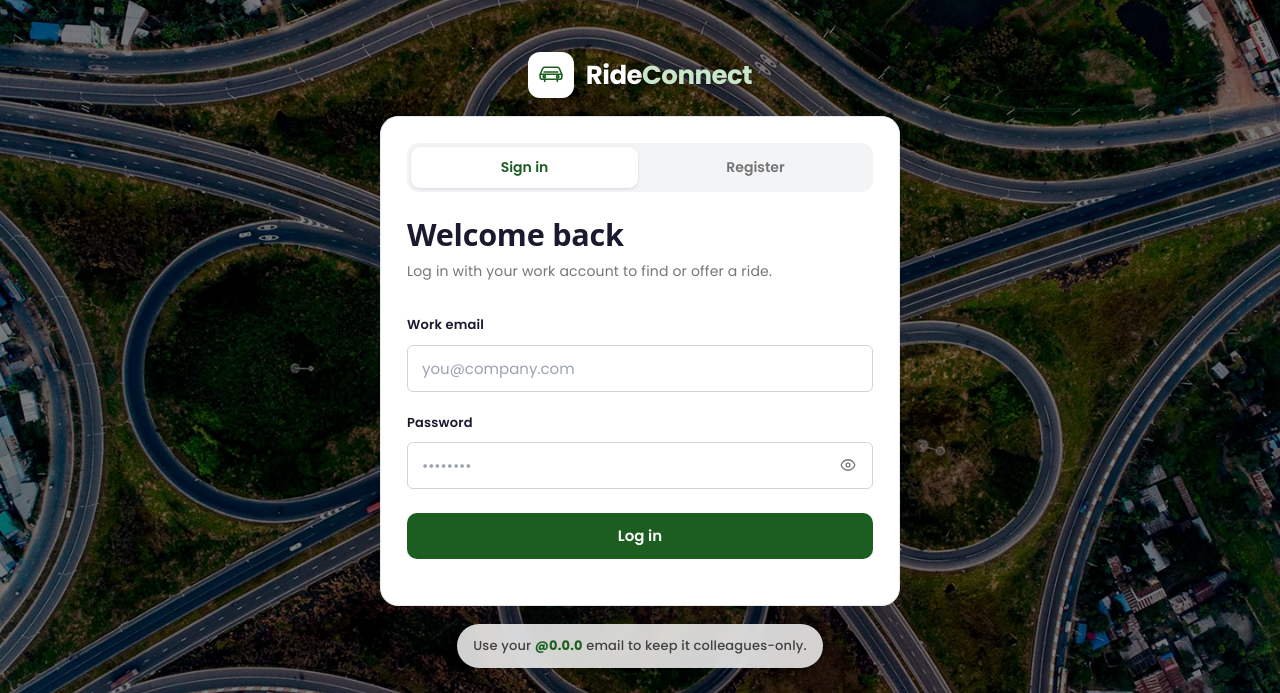
Test: App › lets a logged-out visitor switch from login to registration
Click the button "Register" at (756, 168), box [642,147,869,188]
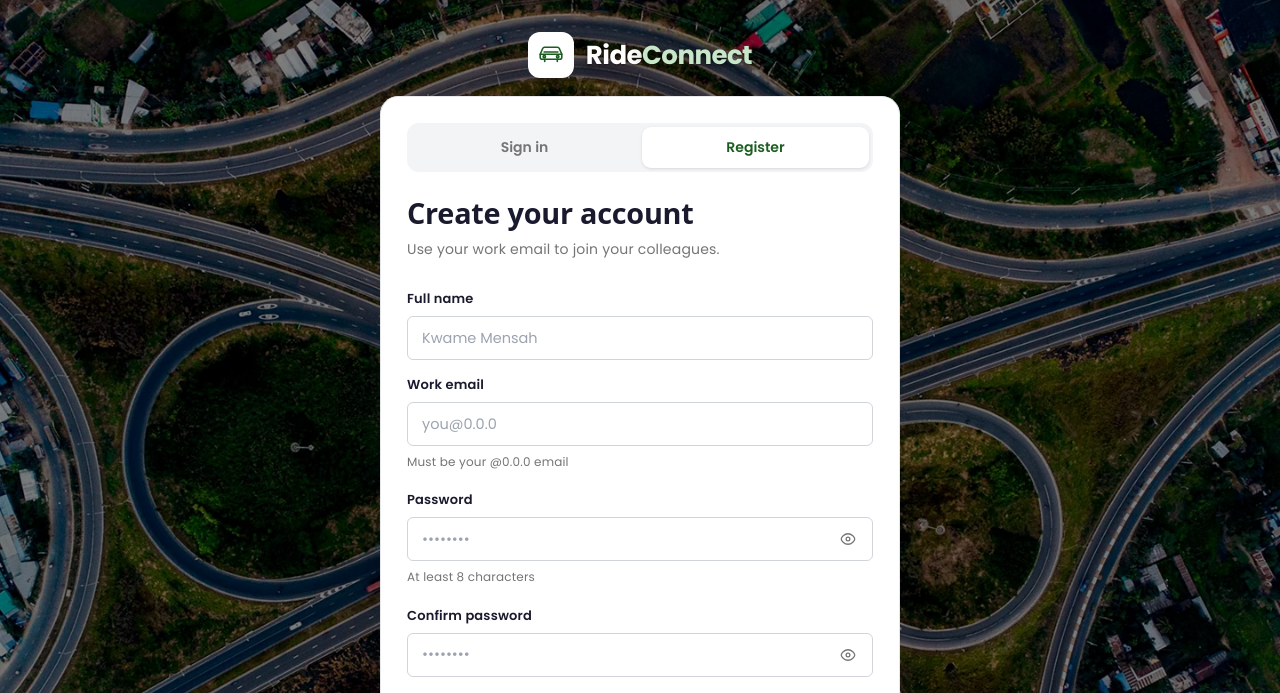
Now the heading "Create your account" is shown, box [407,193,694,232]
